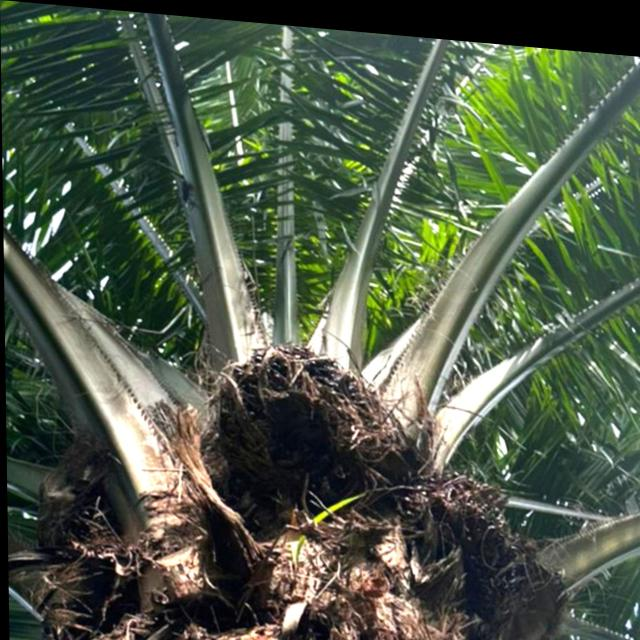unripe: (192, 312, 406, 537)
